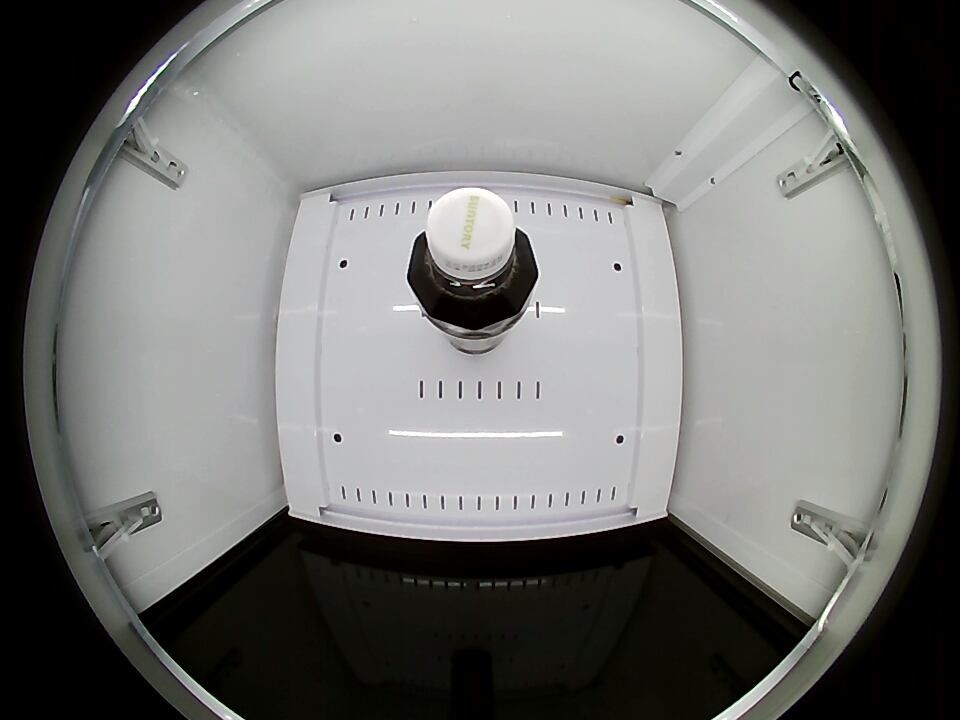wulongcha: (406, 186, 539, 327)
